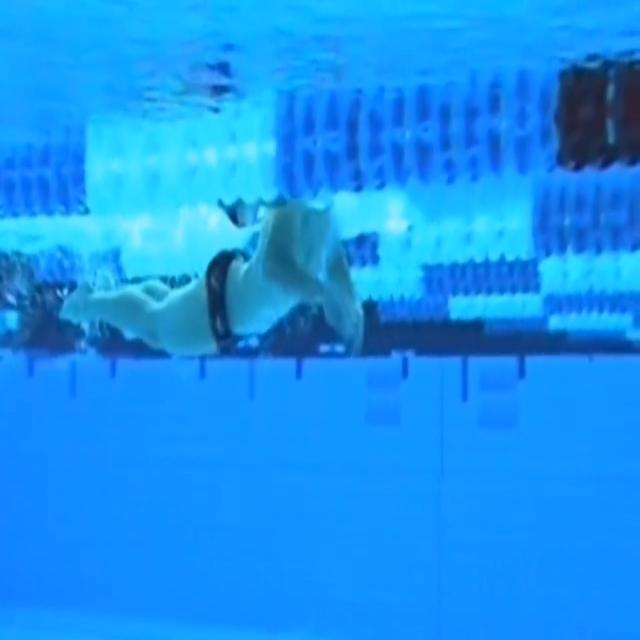Swimming: (59, 202, 364, 356)
